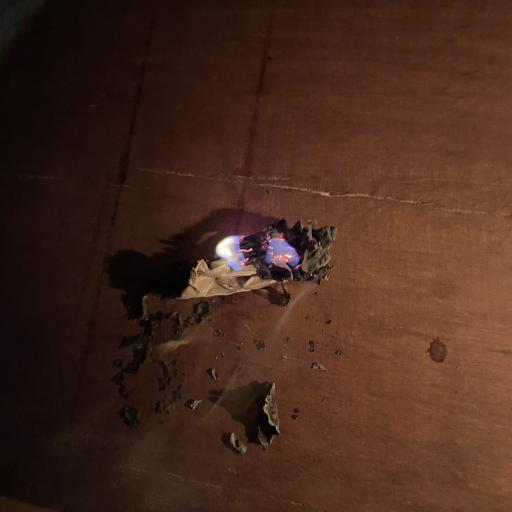fire: (186, 202, 337, 318)
